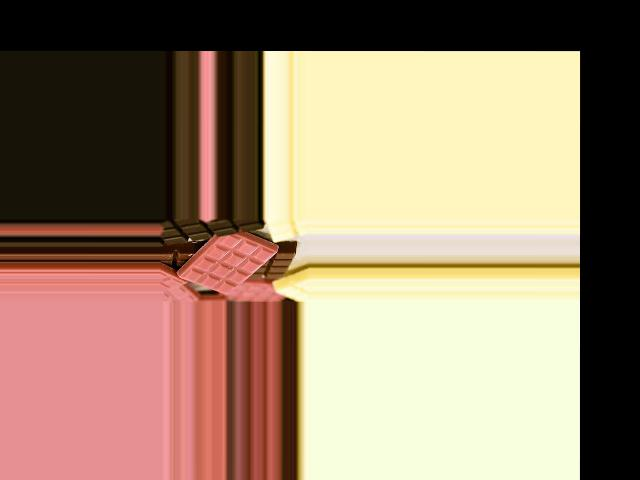chocolate: (176, 218, 276, 297)
